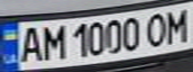0: (103, 16, 127, 54), (121, 14, 145, 52), (84, 19, 106, 57)
1: (66, 20, 90, 58)
A: (15, 24, 45, 63)
M: (160, 6, 193, 44), (36, 22, 66, 61)
O: (142, 10, 172, 47)
